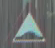Speed Breaker ahead: (5, 6, 51, 47)
